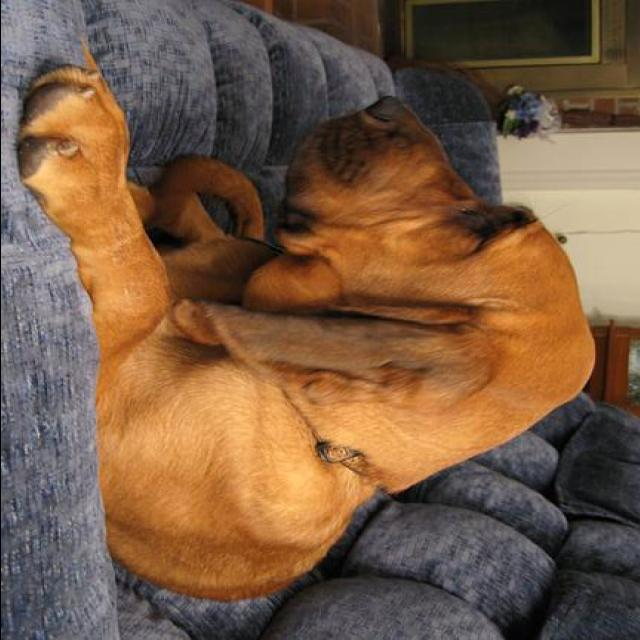bloodhound: (18, 61, 598, 603)
